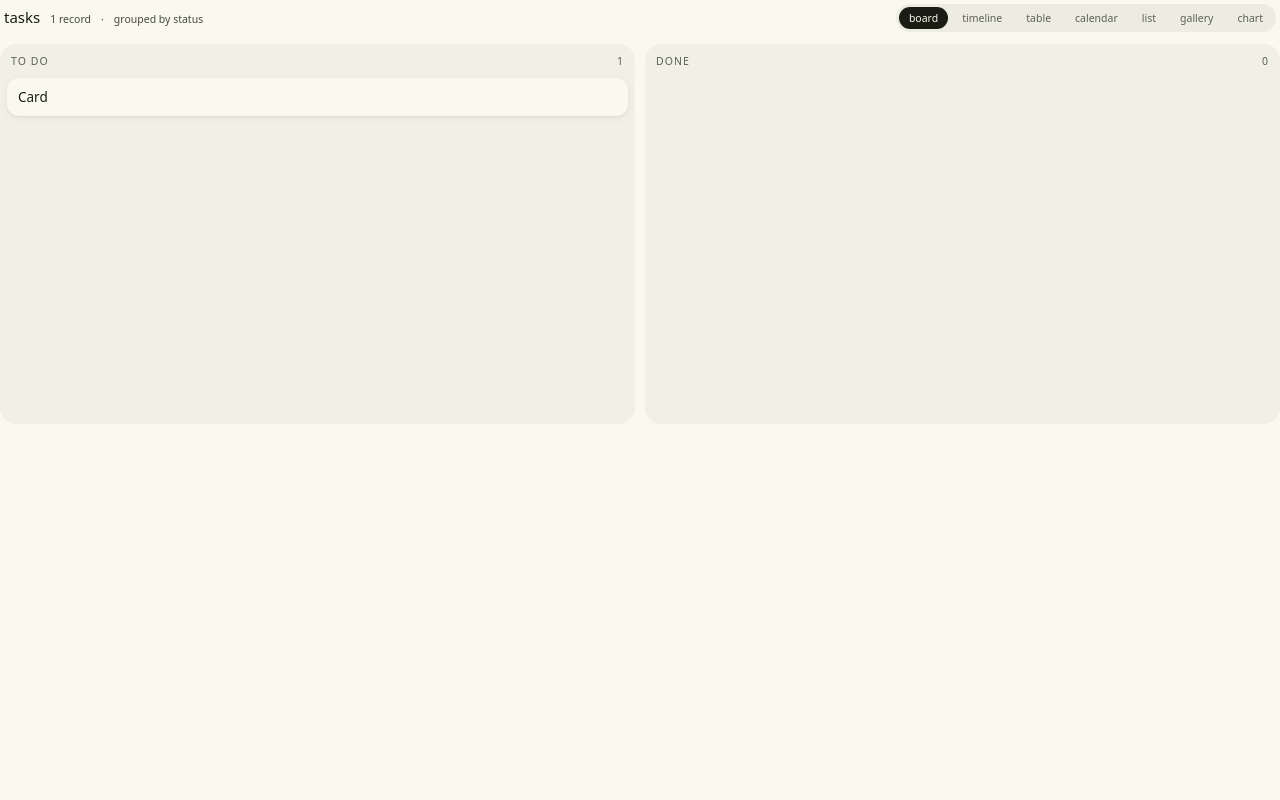
Test: board — a drag is not a click › a cancelled drag ends the same way and leaves nothing stuck
Press the mouse on the element "Card" at (318,97), box left=7, top=78, right=628, bottom=116
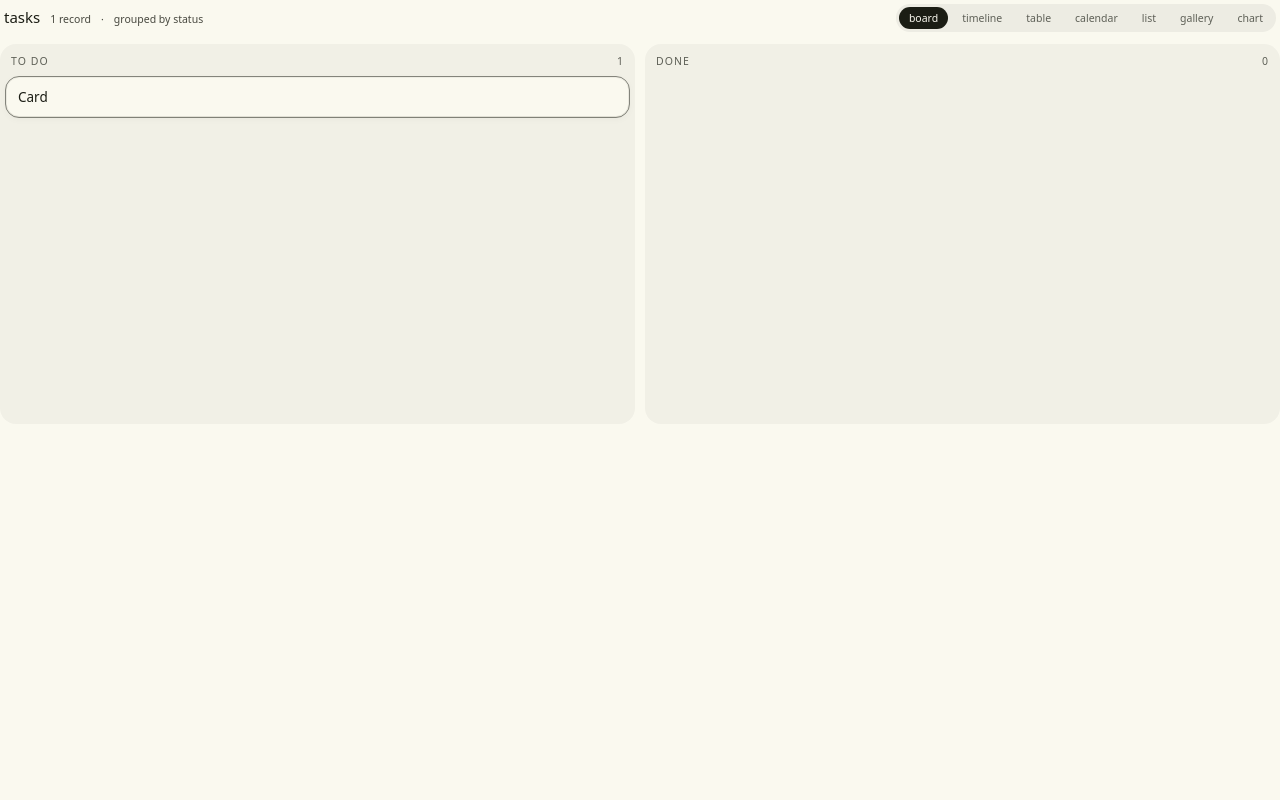
Click the element "Card" at (318,97), box left=7, top=78, right=628, bottom=116
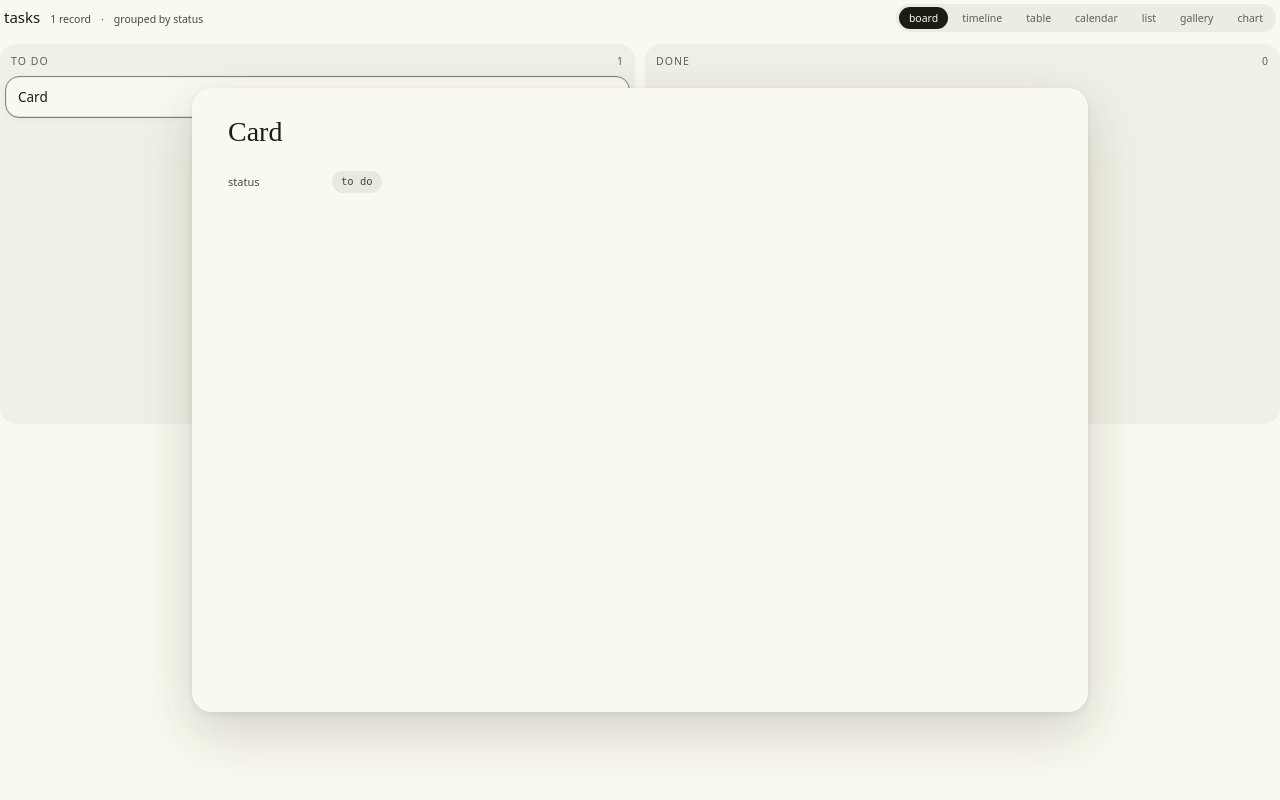
Expected: the element showing "Card status to do" is shown, left=192, top=88, right=1088, bottom=712
